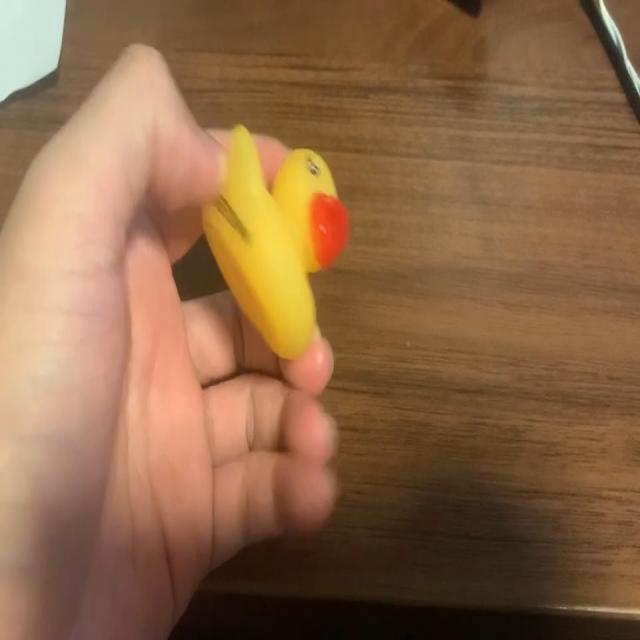rubber-duck: (202, 124, 346, 357)
